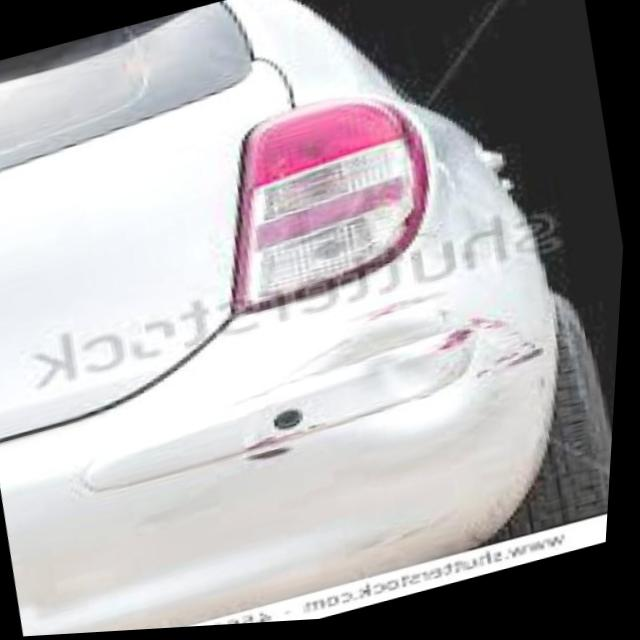Car-Damage: (189, 271, 559, 507)
